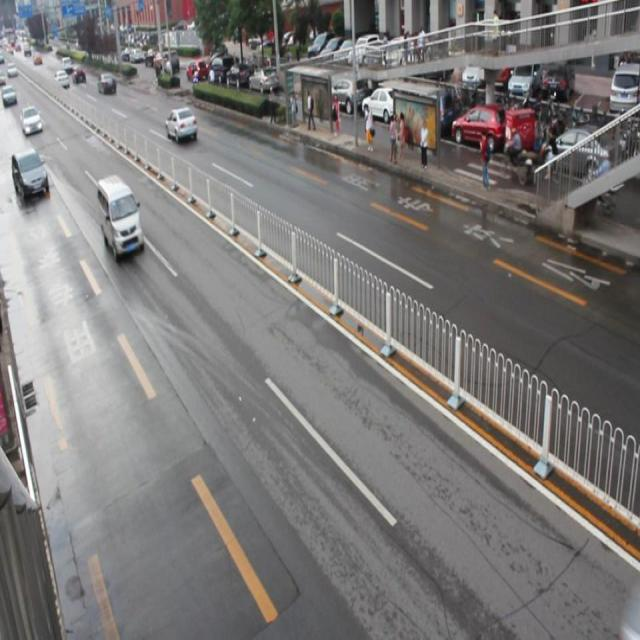car: (166, 105, 198, 144)
truck: (97, 174, 143, 260), (13, 146, 50, 201)
